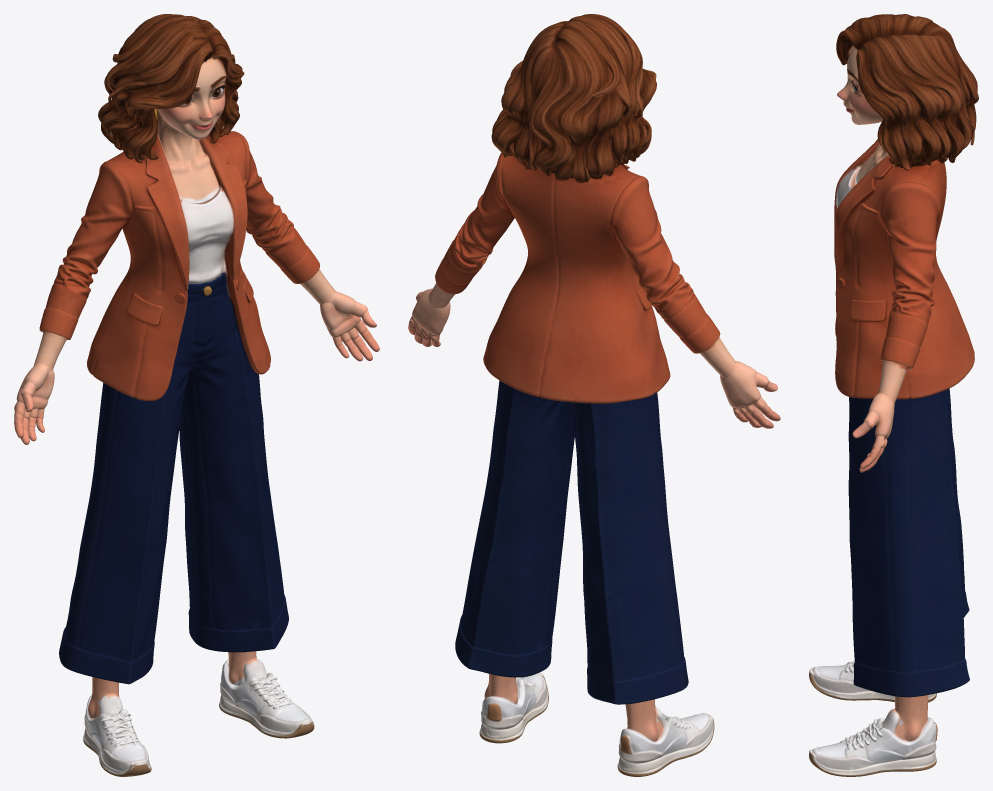
File: maya.glb
3 renders of one model, left to right at view 1: azimuth 30°, elevation 25°; view 2: azimuth 150°, elevation 25°; view 3: azimuth 270°, elevation 25°, orthographic.
Parts seen in each view (by area): view 1: woman; view 2: woman; view 3: woman.
Boxes of the visible parts, <box> form: woman: <box>14,14,379,776</box>; woman: <box>408,14,780,776</box>; woman: <box>809,14,978,776</box>.
Size of the model in its own units: 0.9055 by 1.7 by 0.3676.
1 material, 1 textured.
